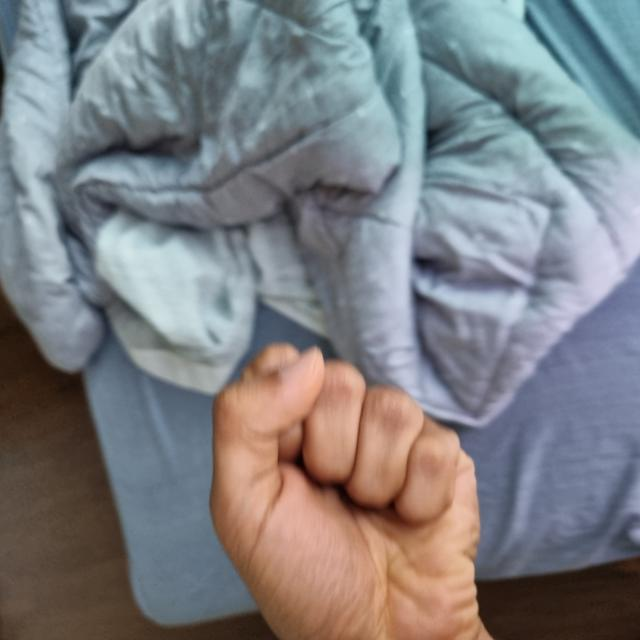Rock: (1, 212, 290, 479)
